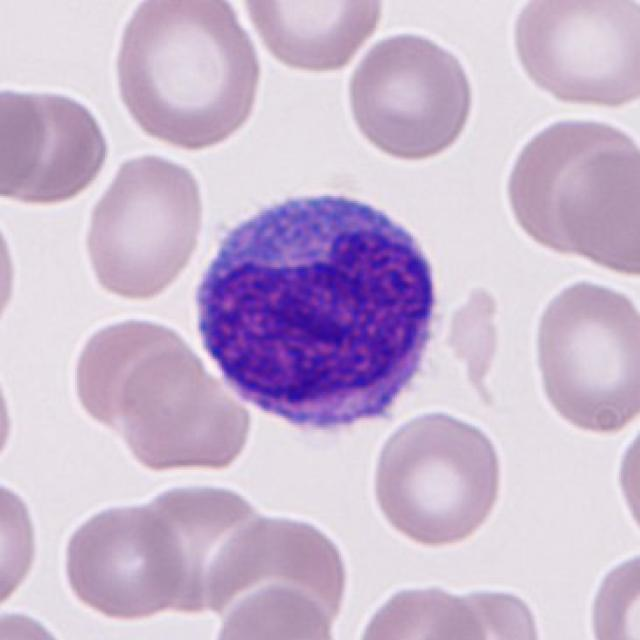Monocyte: (186, 177, 457, 444)
RBC: (107, 0, 266, 153), (79, 149, 210, 304), (366, 406, 507, 550), (500, 111, 633, 262), (198, 510, 353, 636), (114, 345, 255, 479), (341, 28, 479, 163), (528, 272, 638, 437), (56, 498, 191, 622), (67, 311, 194, 434), (506, 0, 638, 113), (0, 83, 114, 210), (551, 140, 640, 280), (236, 0, 390, 76), (349, 577, 489, 640), (208, 579, 343, 640), (133, 477, 266, 536), (442, 279, 503, 390), (435, 583, 549, 640), (0, 81, 52, 204), (0, 472, 44, 612), (584, 544, 640, 640), (610, 409, 640, 548), (0, 200, 23, 338), (0, 605, 73, 639), (0, 355, 17, 478)
